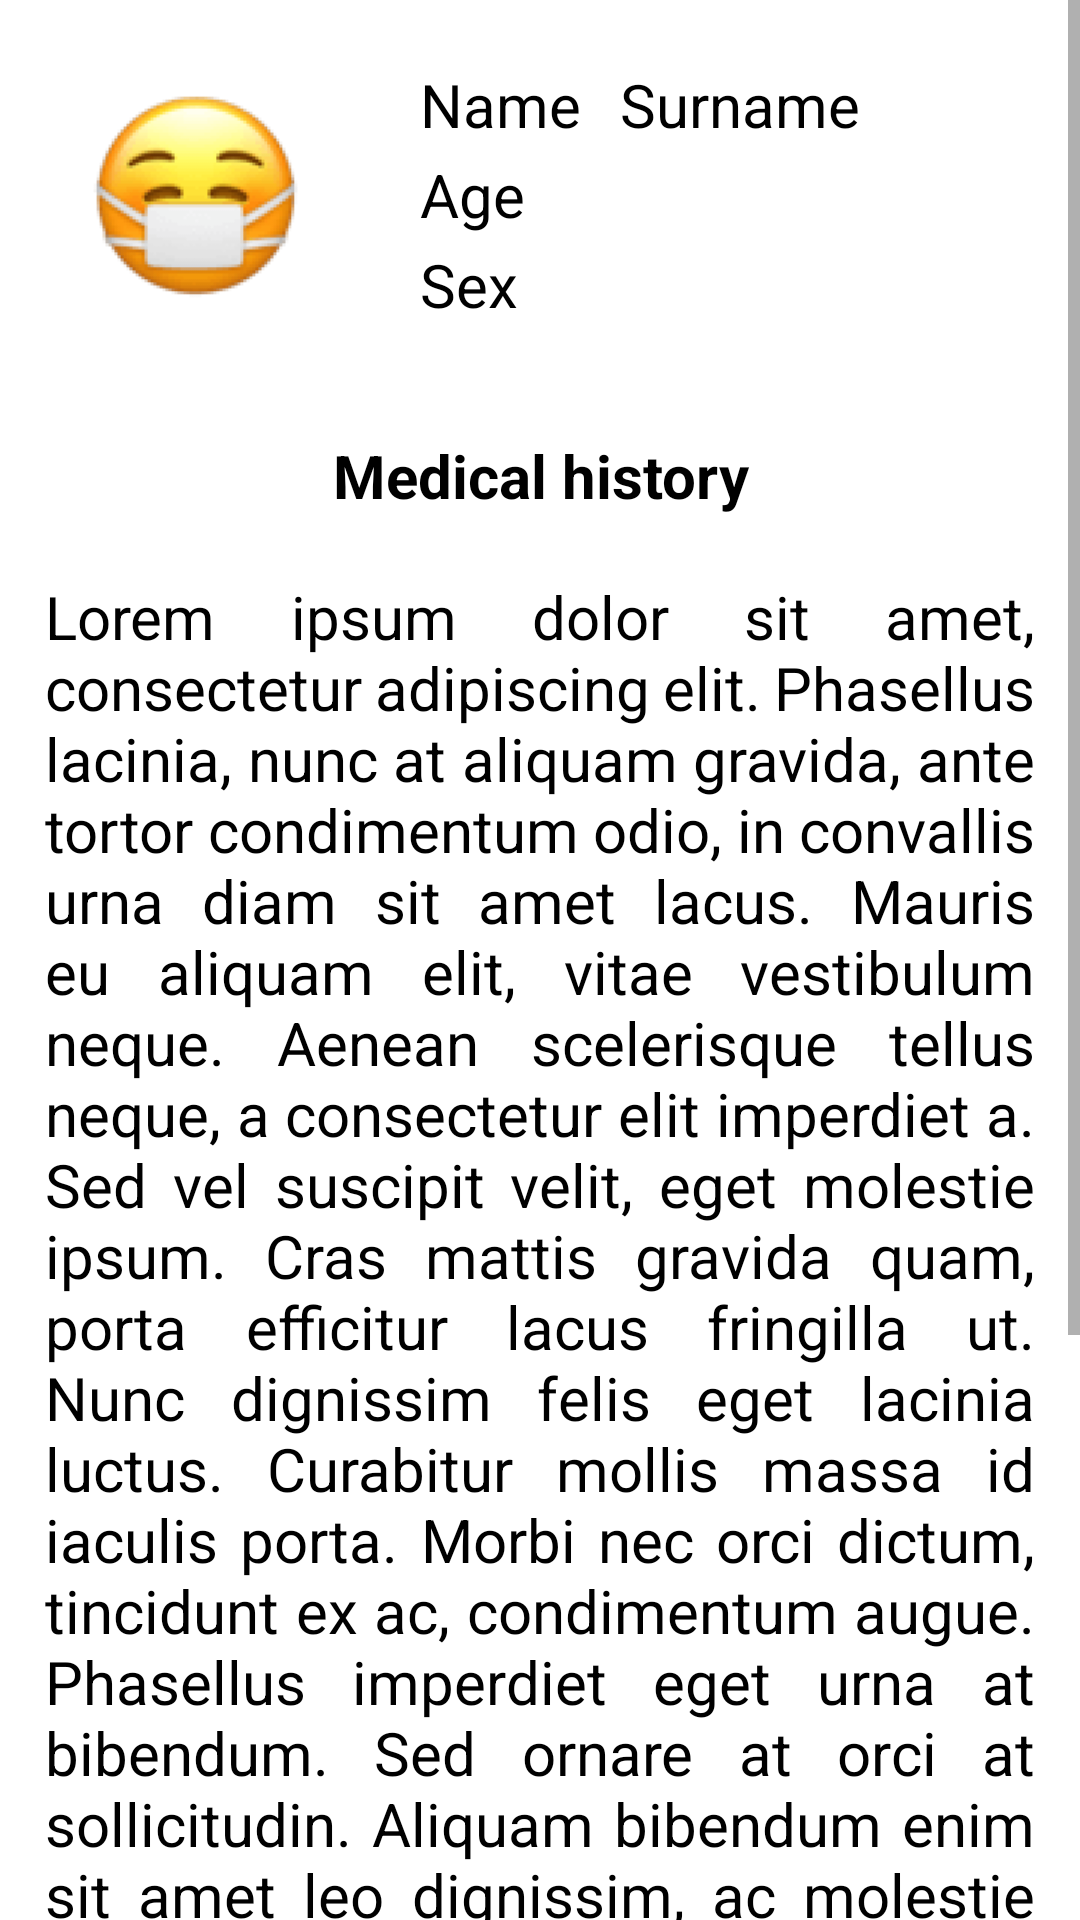

Screen size 1080*1920. Icon name, then its center in pixels as point (x, y):
emoticon: point (195, 195)
